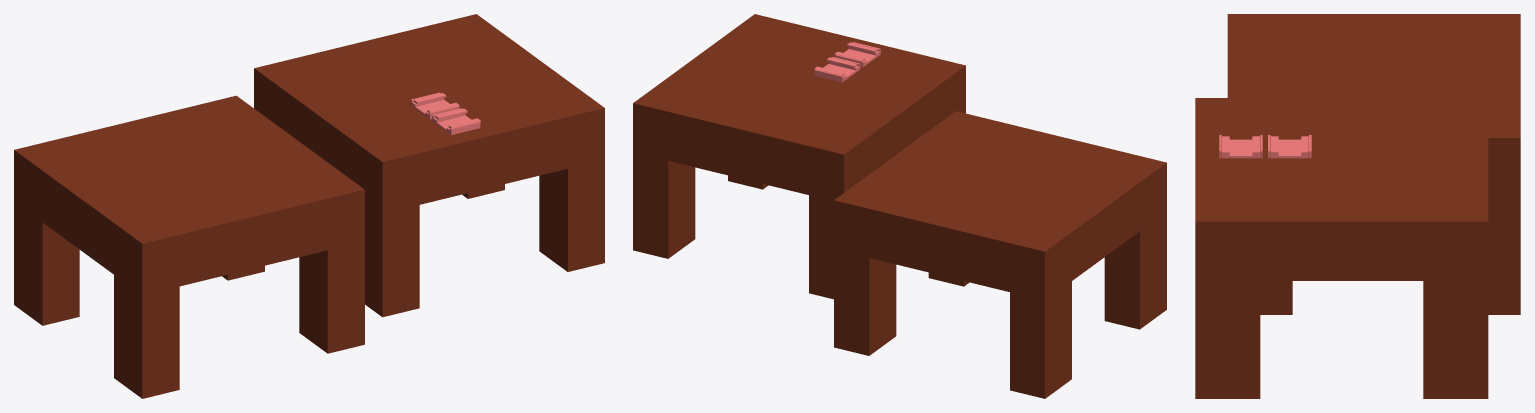
Rendered from keva_double_run_1.dae.
3 renders of one model, left to right at view 1: azimuth 30°, elevation 25°; view 2: azimuth 150°, elevation 25°; view 3: azimuth 270°, elevation 25°, orthographic. The views are drawn at different scales.
Visible parts, largest first — view 1: base (×7); view 2: base (×7); view 3: base (×8).
Part boxes in pixels (box(x1,y1,x2,y2)): base (×7): box(14, 14, 604, 398); base (×7): box(633, 14, 1166, 398); base (×8): box(1195, 14, 1520, 398).
Size of the model in its own units: 1.81 by 0.9991 by 0.7658.
